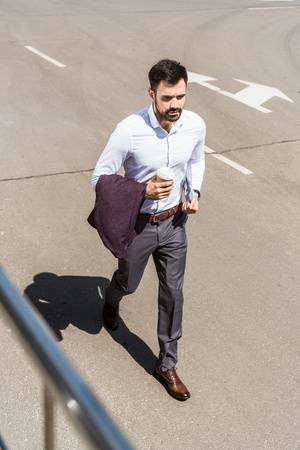F_dress pants: (114, 210, 186, 372)
F_shirt: (90, 102, 206, 214)
